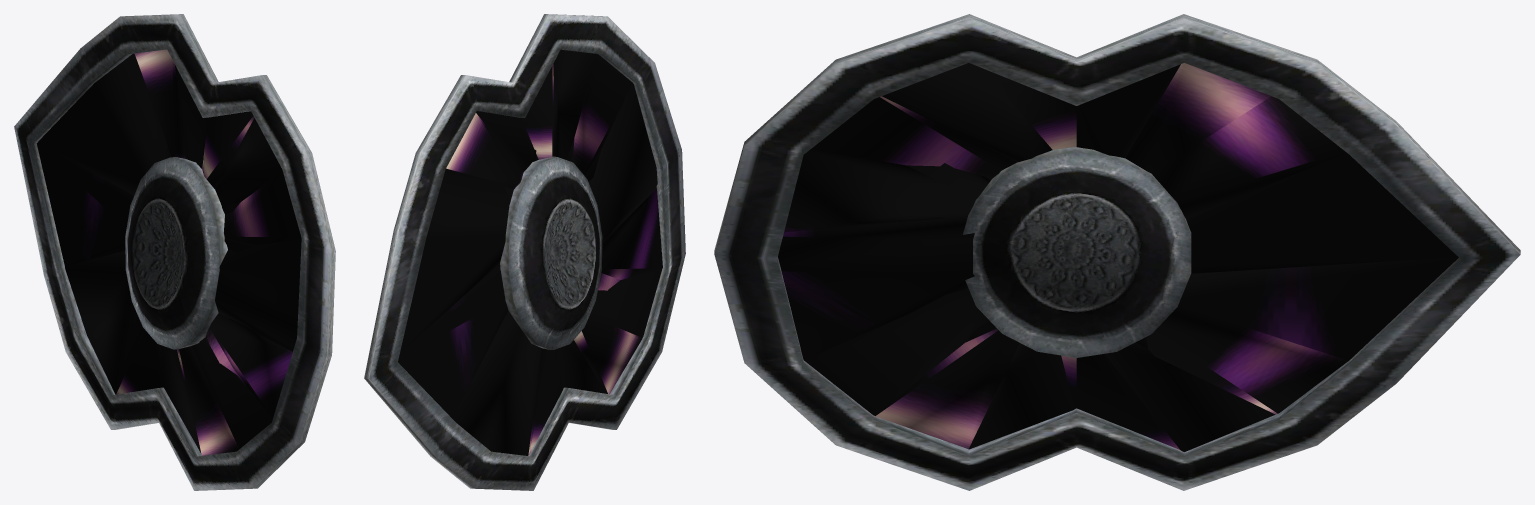
File: target_pn1_map280_20260708-192333.obj
3 renders of one model, left to right at view 1: azimuth 30°, elevation 25°; view 2: azimuth 150°, elevation 25°; view 3: azimuth 270°, elevation 25°, orthographic. The views are drawn at different scales.
Visible parts, largest first — view 1: object_0, object_1, object_2; view 2: object_0, object_1, object_2; view 3: object_0, object_2, object_1.
Part boxes in pixels (x1,y1,x2,y2): object_0: (14, 14, 335, 490); object_1: (38, 53, 301, 452); object_2: (36, 49, 301, 455); object_0: (364, 14, 685, 490); object_1: (400, 49, 661, 455); object_2: (398, 54, 662, 455); object_0: (714, 14, 1520, 490); object_2: (778, 63, 1458, 449); object_1: (785, 63, 1457, 452).
Size of the model in its own units: 5.59 by 28.39 by 40.2.
Materials: 2 (2 with a texture image).
